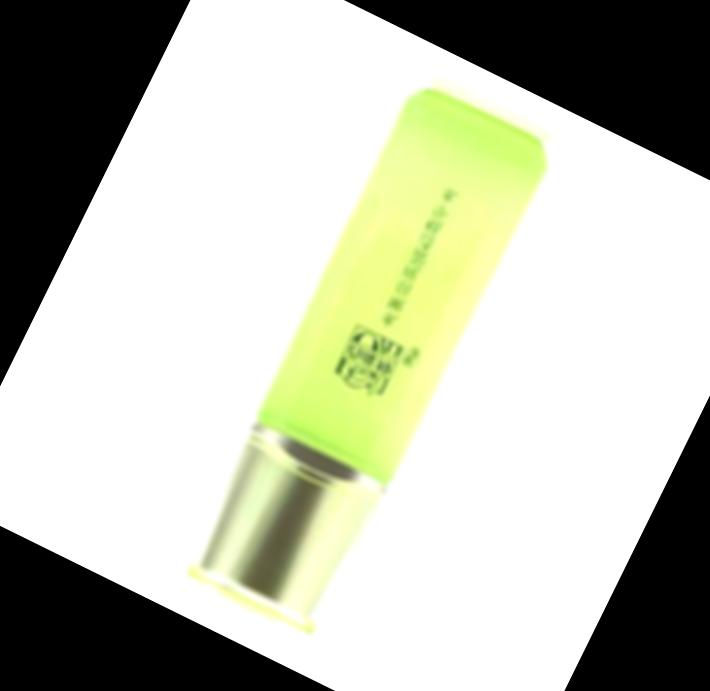cosmetic: (177, 93, 554, 645)
